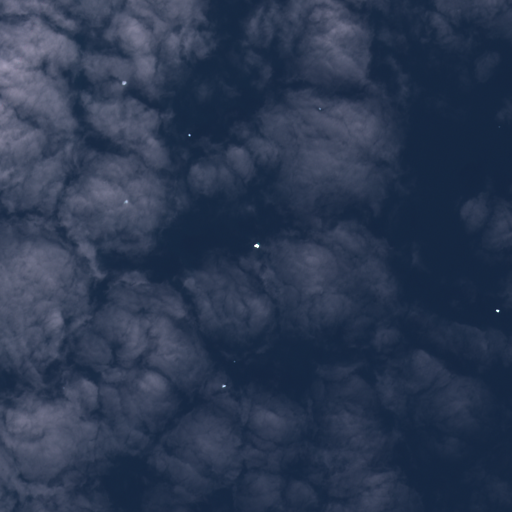Iceberg: (254, 243, 259, 247), (122, 81, 126, 85), (495, 309, 499, 312), (124, 200, 127, 203), (222, 384, 225, 387), (188, 133, 190, 136), (233, 360, 235, 362), (319, 107, 320, 109)
